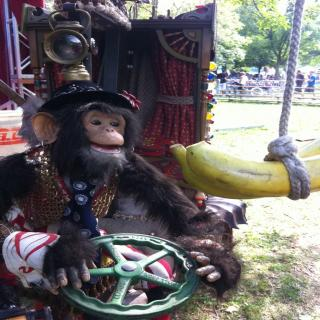Banana: (170, 137, 320, 199)
